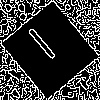I: (25, 25, 65, 69)
